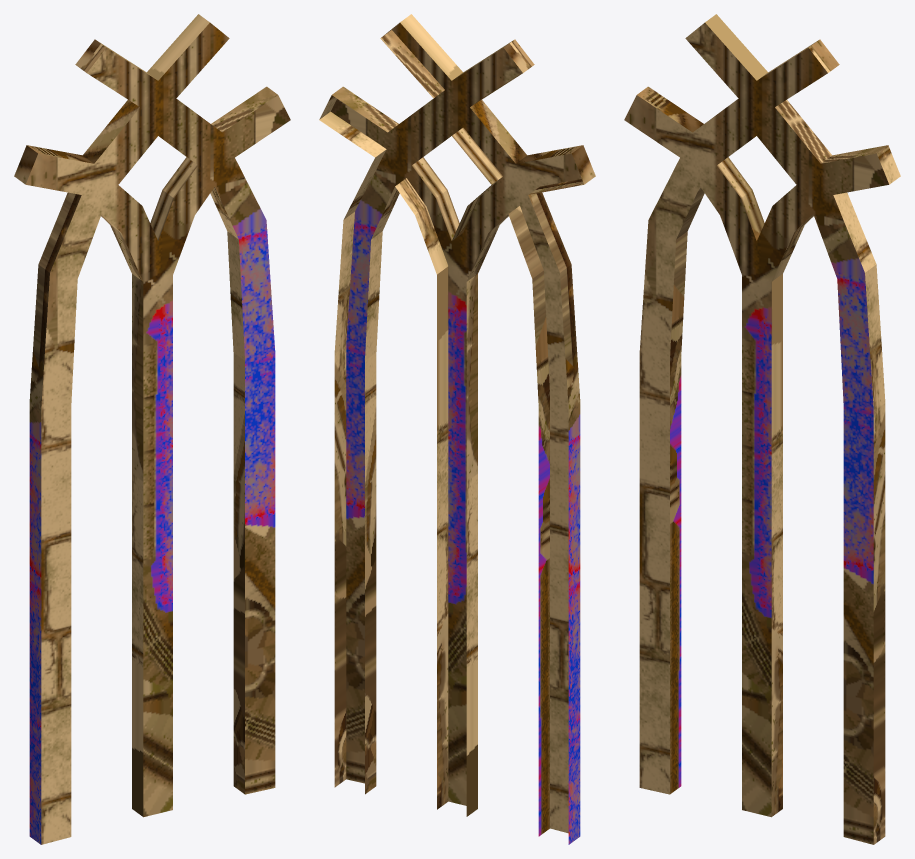
File: SM_Relieve.fbx
3 renders of one model, left to right at view 1: azimuth 30°, elevation 25°; view 2: azimuth 150°, elevation 25°; view 3: azimuth 330°, elevation 25°, orthographic.
Parts seen in each view (by area): view 1: SM_Relieve; view 2: SM_Relieve; view 3: SM_Relieve.
Boxes of the visible parts, <box> form: SM_Relieve: <box>14,14,290,844</box>; SM_Relieve: <box>319,14,595,844</box>; SM_Relieve: <box>624,14,900,844</box>.
Size of the model in its own units: 208 by 586 by 15.74.
